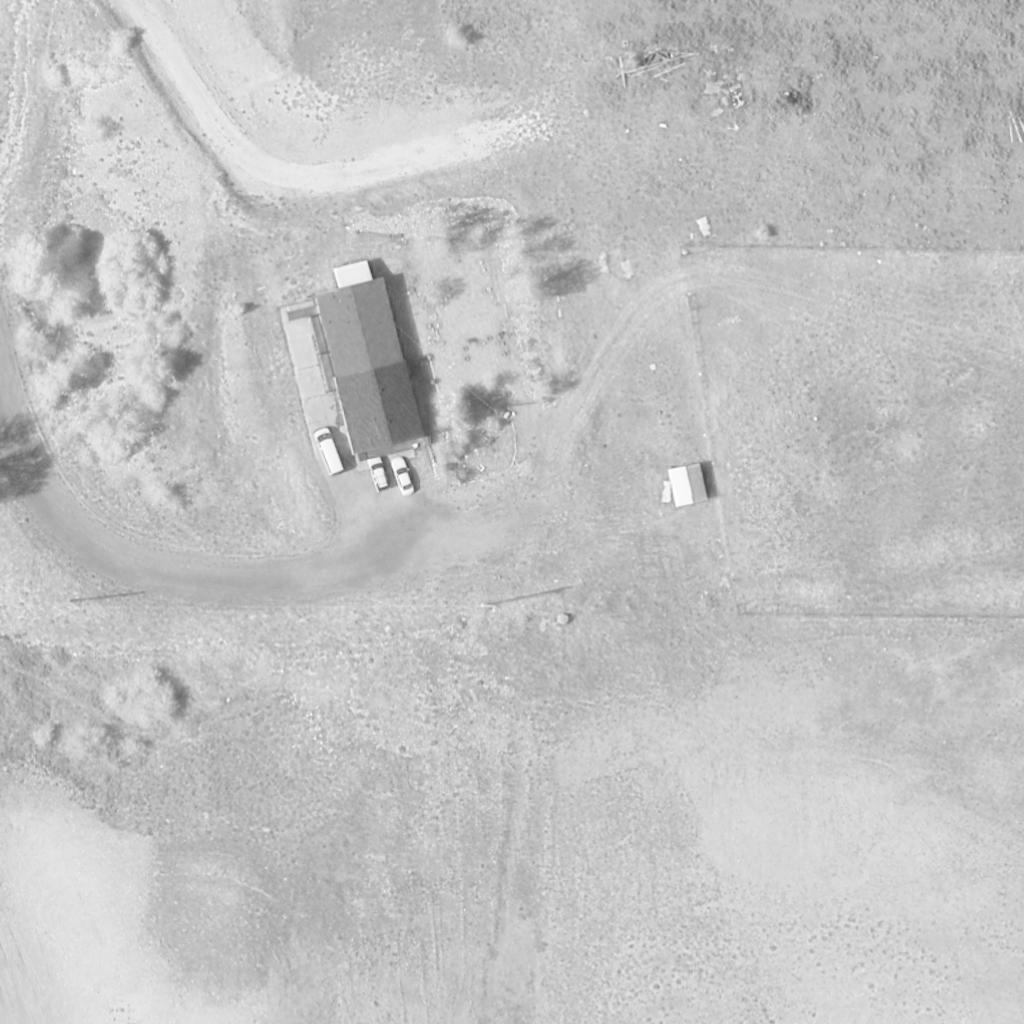vehicle: (314, 428, 346, 476), (389, 457, 415, 497), (366, 457, 390, 491)
